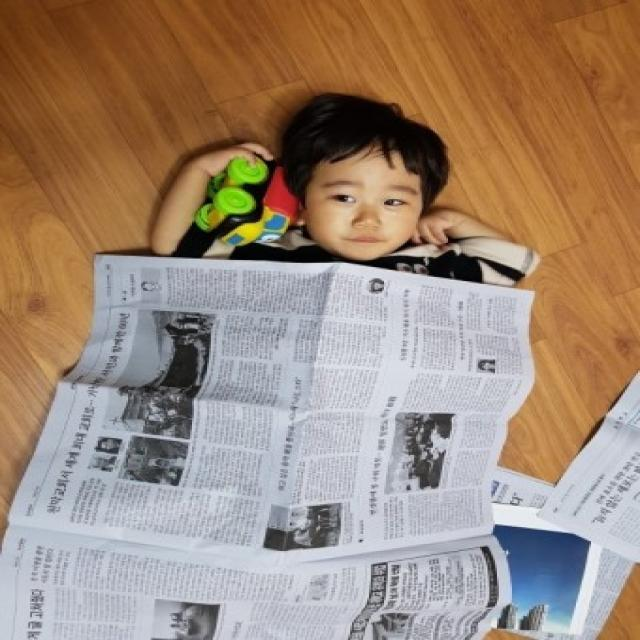Newspaper: (0, 259, 640, 640)
